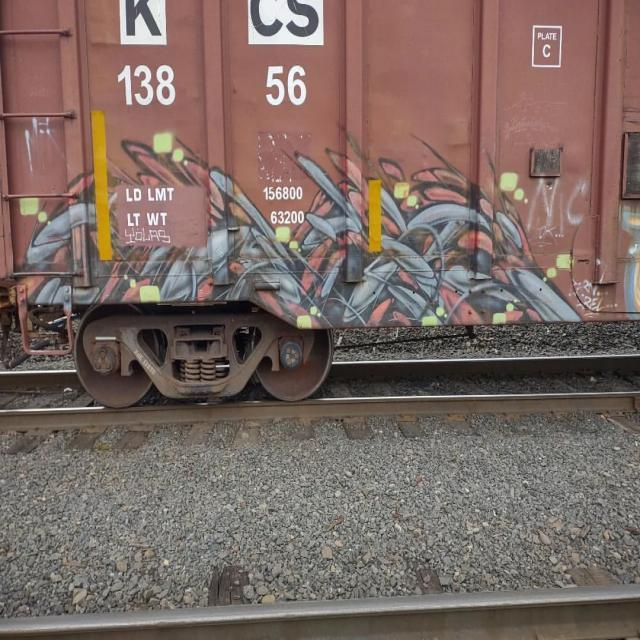-: (20, 133, 592, 322), (120, 0, 338, 111), (124, 186, 182, 244), (524, 10, 567, 76), (262, 182, 308, 228)
